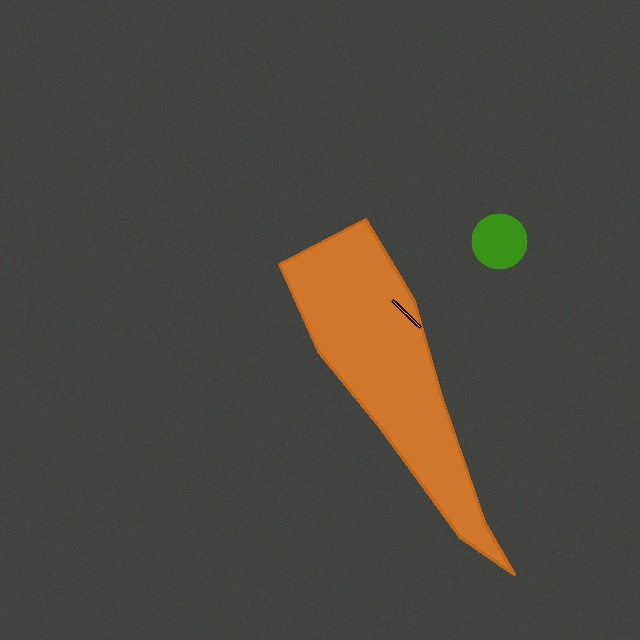Damaged_Carrot: (271, 211, 522, 582)
